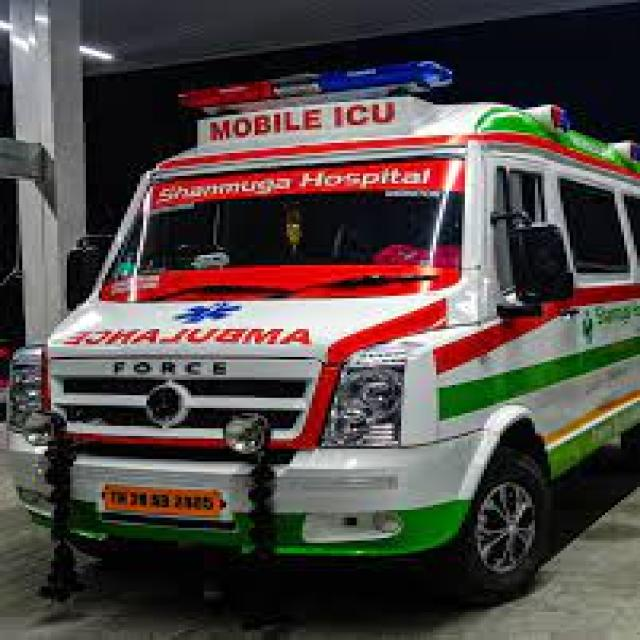Ambulance: (19, 48, 640, 638)
